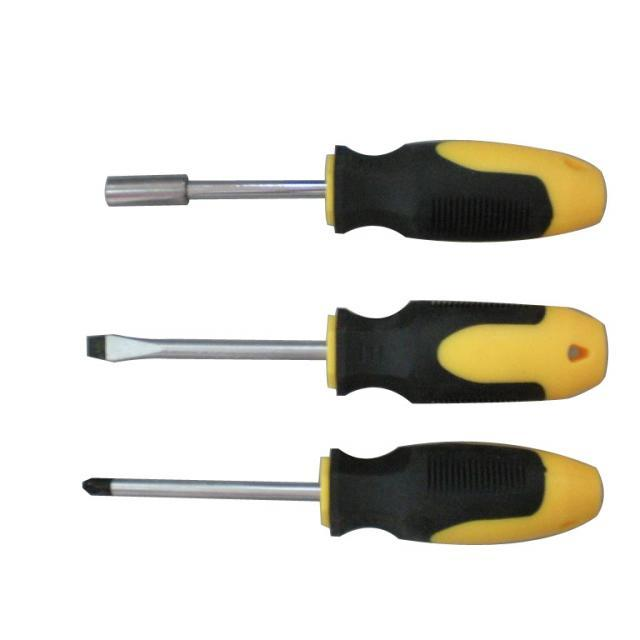screwdriver: (97, 126, 612, 257), (80, 284, 614, 408), (76, 434, 608, 557)
